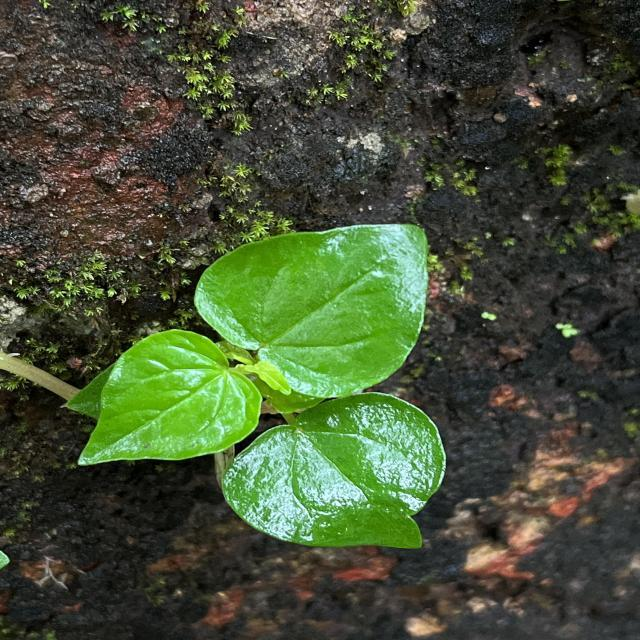Peperomia pellucida: (191, 222, 429, 400), (220, 391, 448, 551), (77, 328, 265, 467)
